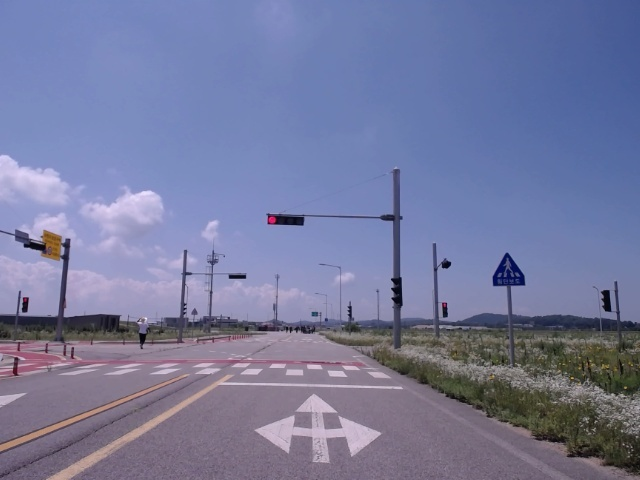red_4: (267, 216, 304, 225)
